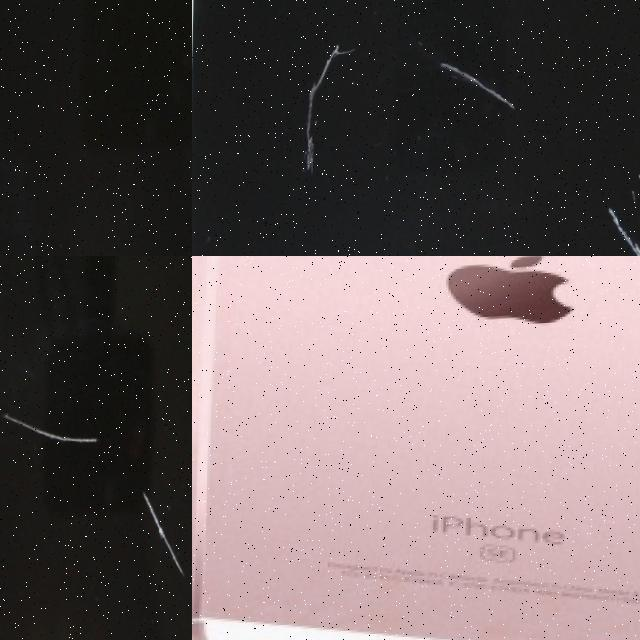scratch: (0, 387, 105, 469), (304, 48, 361, 175), (132, 485, 192, 590), (439, 58, 518, 124), (600, 210, 640, 256), (632, 171, 640, 211)
